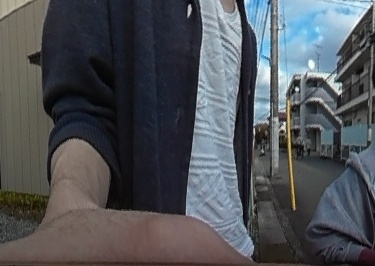person: (304, 134, 313, 155), (294, 135, 303, 156)
